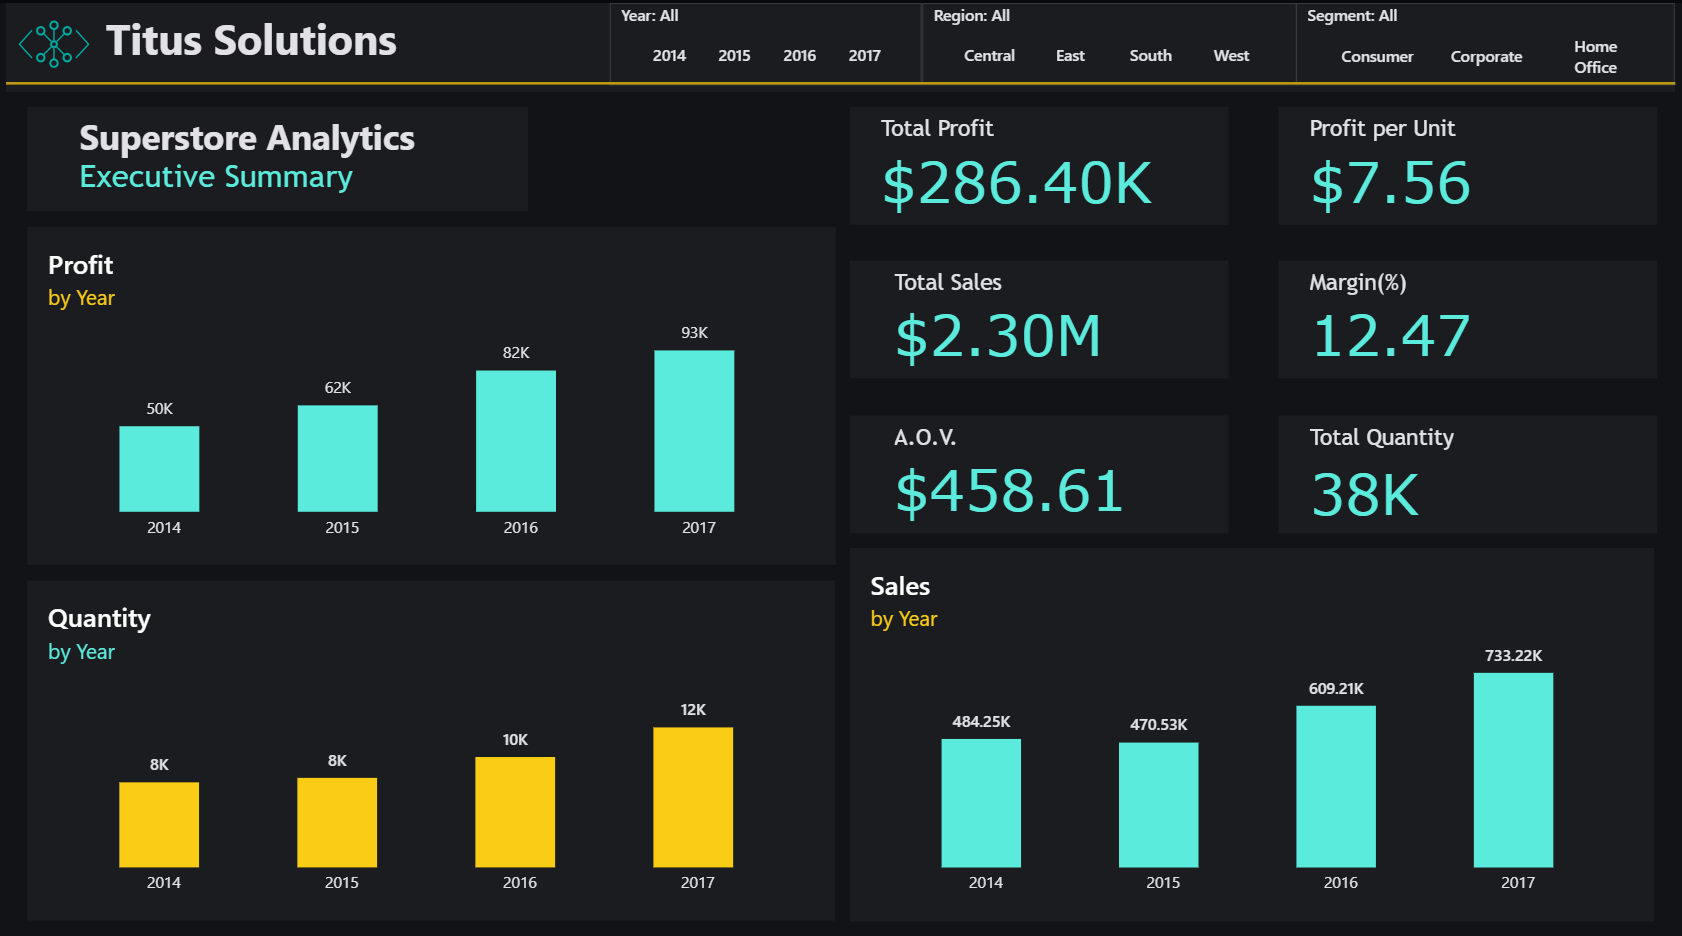

What the dashboard file says about the page in this screenshot:
{"tool":"powerbi","page":{"name":"Page 1","canvas":[1280,720],"ordinal":0},"visuals":[{"type":"textbox","box":[0,1.2,1280,61.6],"z":0,"group":"g1"},{"type":"cardVisual","fields":{"Data":["Sum(public measures.total_profit)"]},"box":[647,80,290,90],"z":0},{"type":"cardVisual","fields":{"Data":["Sum(public measures.total_sales)"]},"box":[647,197,290,90],"z":1000},{"type":"slicer","fields":{"Values":["public superstore.Region"]},"box":[702.8,0,286.8,62.8],"z":2000,"group":"g1"},{"type":"cardVisual","fields":{"Data":["Sum(public measures.total_quantity)"]},"box":[976,316,290,90],"z":2000},{"type":"cardVisual","fields":{"Data":["Sum(public measures.margin)"]},"box":[976,197,290,90],"z":3000},{"type":"slicer","fields":{"Values":["public superstore.Segment"]},"box":[989.6,0,290.4,62.8],"z":4000,"group":"g1"},{"type":"cardVisual","fields":{"Data":["Sum(public measures.aov)"]},"box":[647,316,290,90],"z":4000},{"type":"clusteredColumnChart","title":"Profit","fields":{"Category":["public superstore.Order Date.Variation.Date Hierarchy.Year","public superstore.Order Date.Variation.Date Hierarchy.Quarter"],"Y":["Sum(public superstore.Profit)"]},"box":[16,172,620,259.6],"z":5000},{"type":"slicer","fields":{"Values":["public superstore.Order Date.Variation.Date Hierarchy.Year"]},"box":[463.4,0,239.4,62.8],"z":6000,"group":"g1"},{"type":"clusteredColumnChart","title":"Sales","fields":{"Category":["public superstore.Order Date.Variation.Date Hierarchy.Year","public superstore.Order Date.Variation.Date Hierarchy.Quarter"],"Y":["Sum(public superstore.Sales)"]},"box":[647,418,617,286],"z":6000},{"type":"clusteredColumnChart","title":"Quantity","fields":{"Category":["public superstore.Order Date.Variation.Date Hierarchy.Year","public superstore.Order Date.Variation.Date Hierarchy.Quarter"],"Y":["Sum(public superstore.Quantity)"]},"box":[16,443,619,261],"z":7000},{"type":"textbox","box":[16,80,384,80],"z":8000},{"type":"group","id":"g1","title":"Group 1","box":[0,0,1280,68],"z":9000},{"type":"cardVisual","fields":{"Data":["public measures.Profit per Unit"]},"box":[976,80,290,90],"z":10000},{"type":"shape","box":[0,56,1280,12],"z":12000,"group":"g1"},{"type":"image","box":[0,0,73.5,62.8],"z":14000,"group":"g1"}]}

Visuals, with their boxes in screenshot pixels (x1, y1, x2, y2), scaled from the page's 1280x720 canvas onto the 1682x936 screenshot:
textbox: crop(0, 2, 1681, 82)
cardVisual - Sum(public measures.total_profit): crop(850, 104, 1231, 221)
cardVisual - Sum(public measures.total_sales): crop(850, 256, 1231, 373)
slicer - public superstore.Region: crop(924, 0, 1300, 82)
cardVisual - Sum(public measures.total_quantity): crop(1283, 411, 1664, 528)
cardVisual - Sum(public measures.margin): crop(1283, 256, 1664, 373)
slicer - public superstore.Segment: crop(1300, 0, 1681, 82)
cardVisual - Sum(public measures.aov): crop(850, 411, 1231, 528)
"Profit" clusteredColumnChart: crop(21, 224, 836, 561)
slicer - public superstore.Order Date.Variation.Date Hierarchy.Year: crop(609, 0, 924, 82)
"Sales" clusteredColumnChart: crop(850, 543, 1661, 915)
"Quantity" clusteredColumnChart: crop(21, 576, 834, 915)
textbox: crop(21, 104, 526, 208)
"Group 1" group: crop(0, 0, 1681, 88)
cardVisual - public measures.Profit per Unit: crop(1283, 104, 1664, 221)
shape: crop(0, 73, 1681, 88)
image: crop(0, 0, 97, 82)
